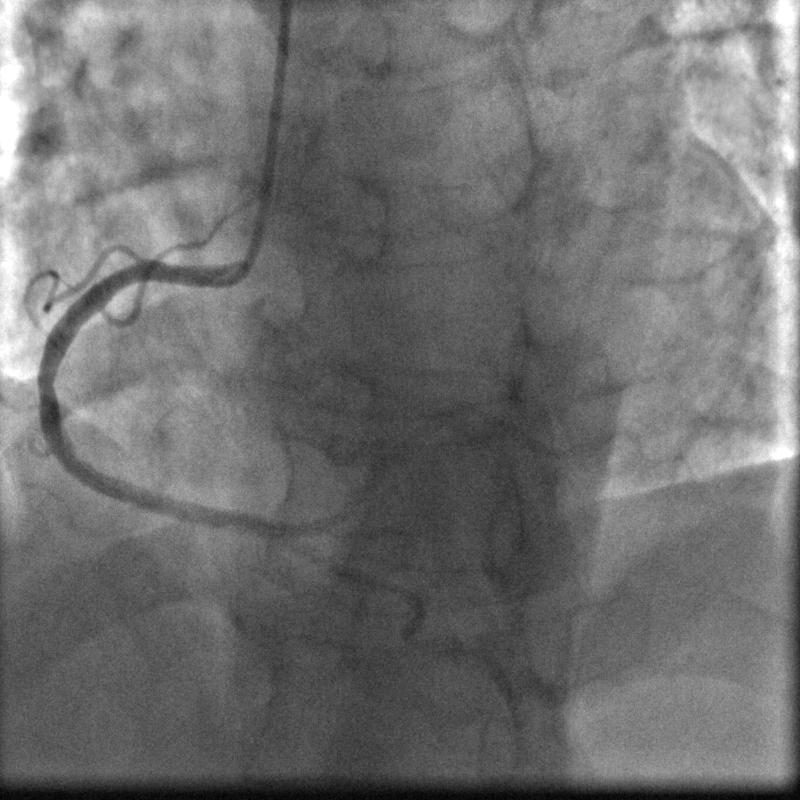Stenosis: (28, 353, 62, 400)
